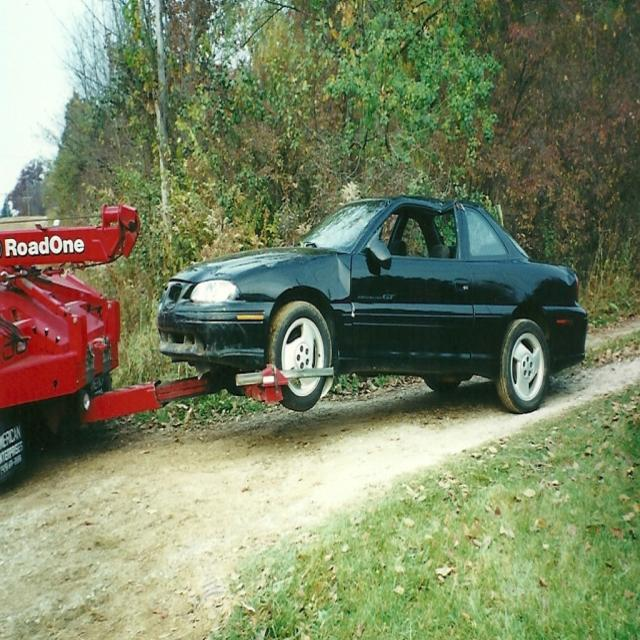car: (160, 188, 591, 412)
